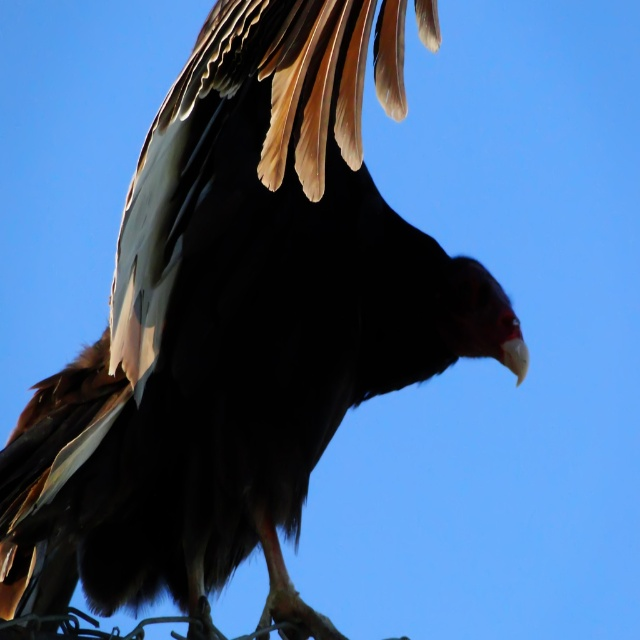Eagle: (0, 0, 534, 639)
